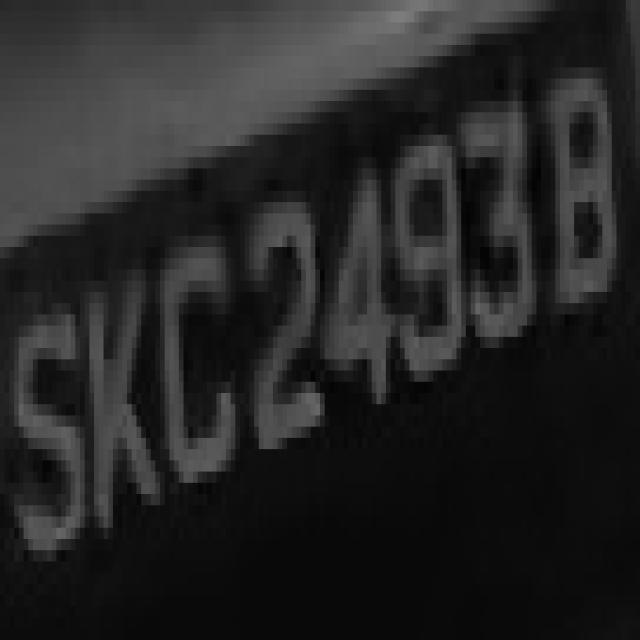2: (240, 191, 329, 471)
3: (452, 90, 536, 393)
4: (311, 168, 395, 438)
9: (381, 135, 475, 404)
B: (541, 45, 621, 326)
C: (150, 225, 244, 528)
K: (75, 258, 160, 539)
S: (9, 304, 85, 562)
